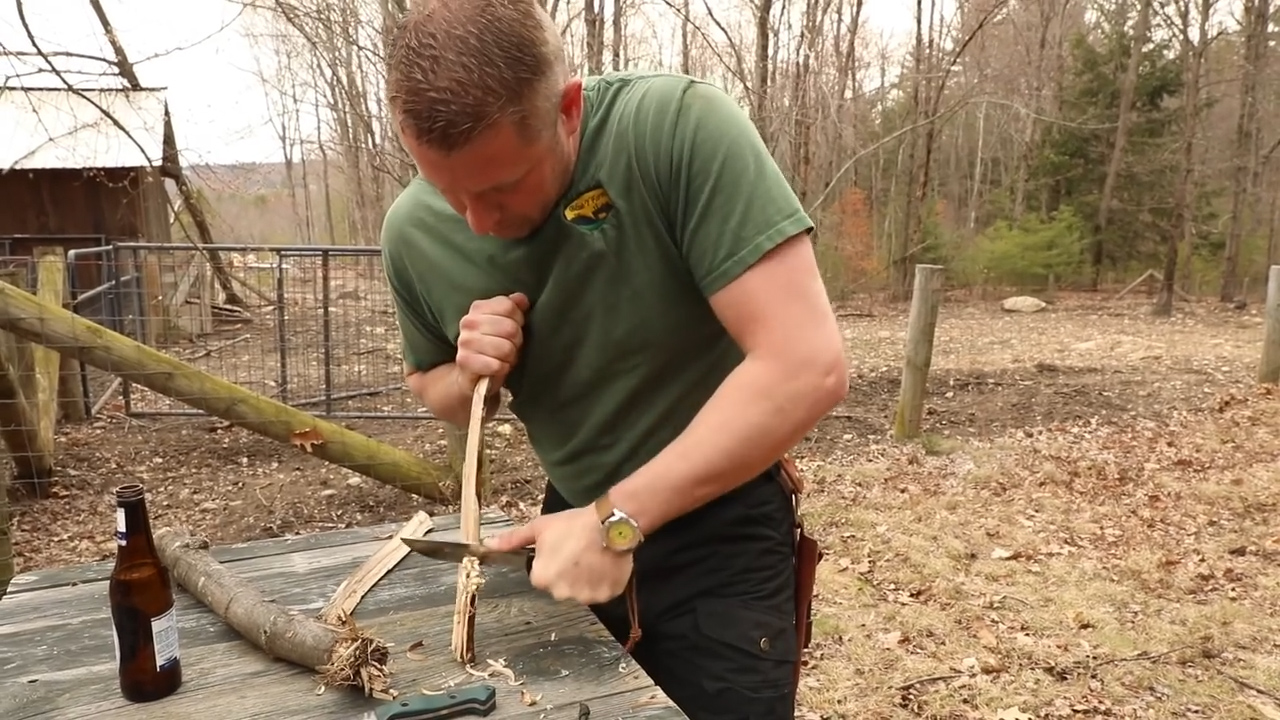knife: (386, 504, 643, 610)
